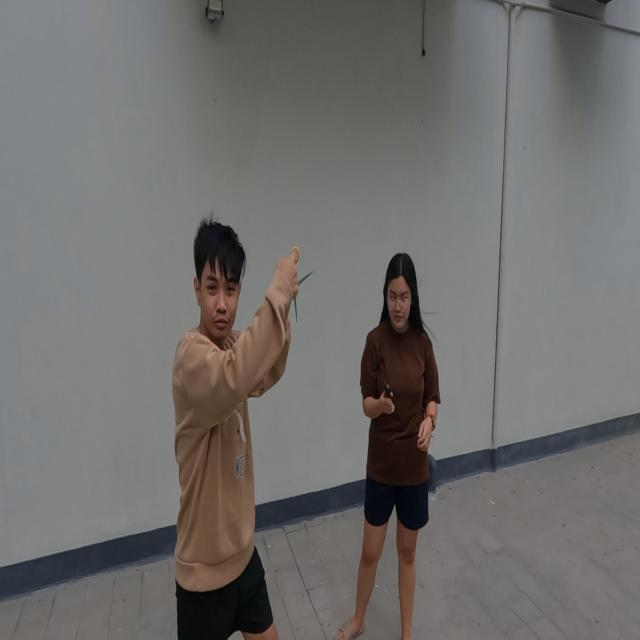scissor: (289, 243, 314, 324), (382, 372, 395, 419)
